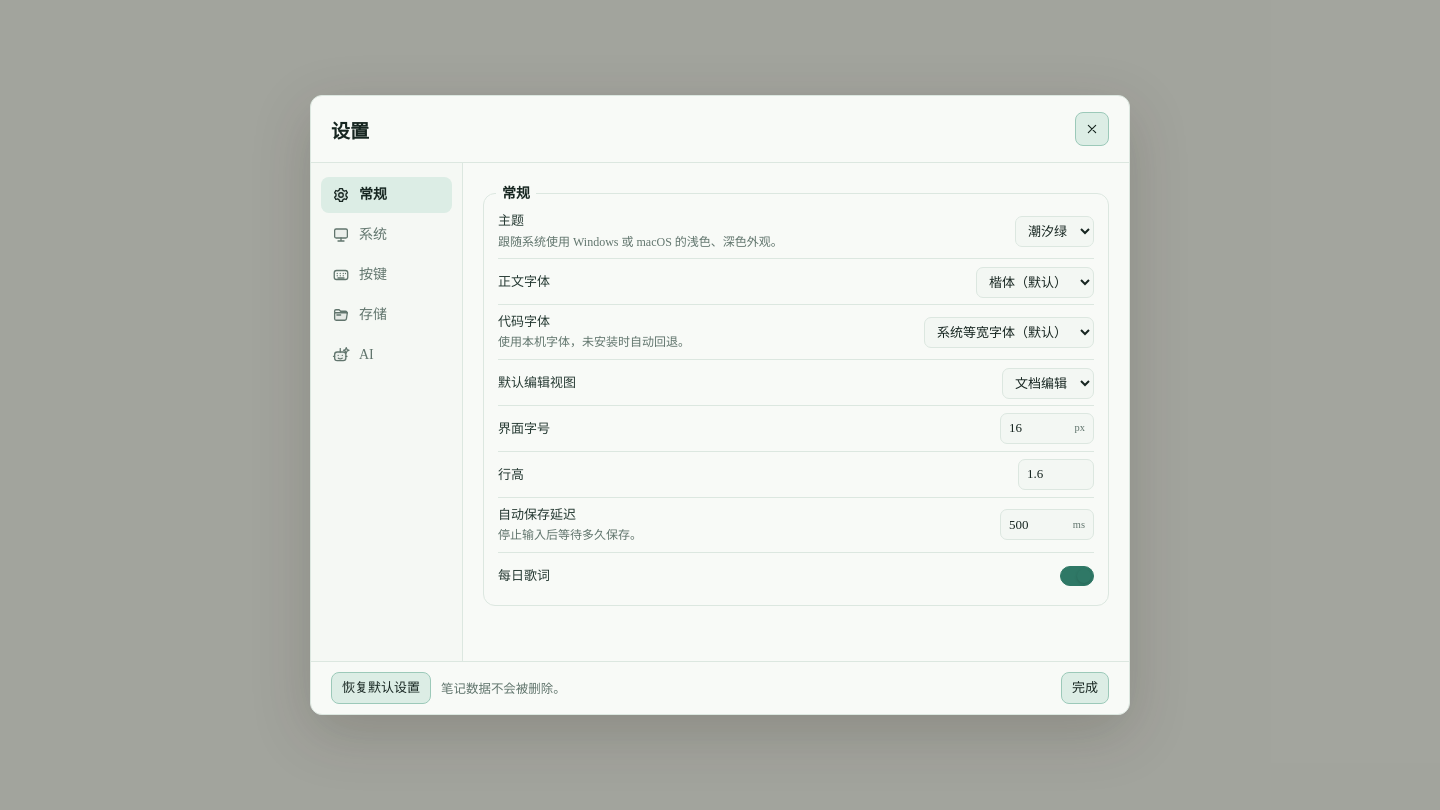
Test case: SettingsView › records a single key after it is released
Click the tab "系统" at (386, 235), box [321,217,452,253]
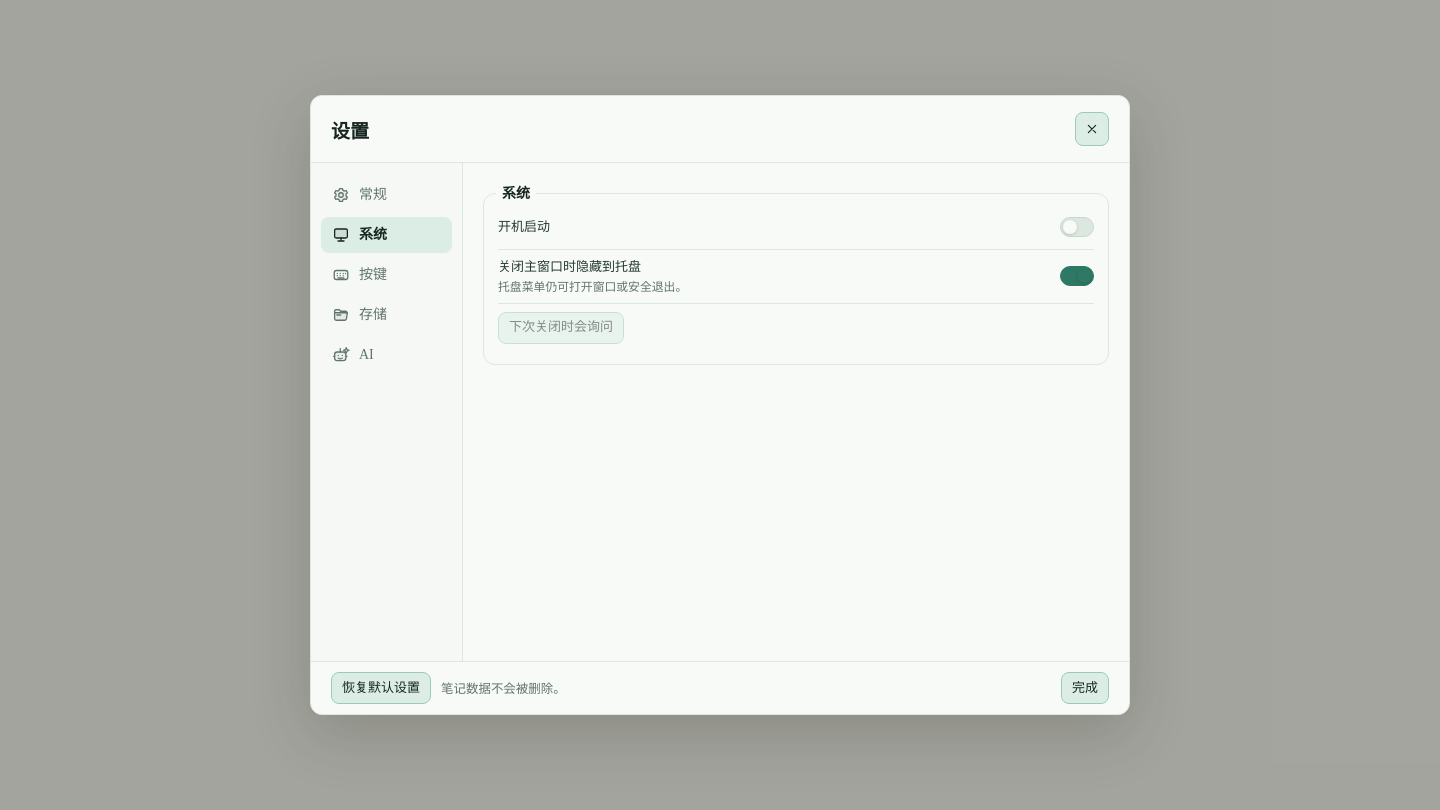
Click the tab "按键" at (386, 275), box [321,257,452,293]
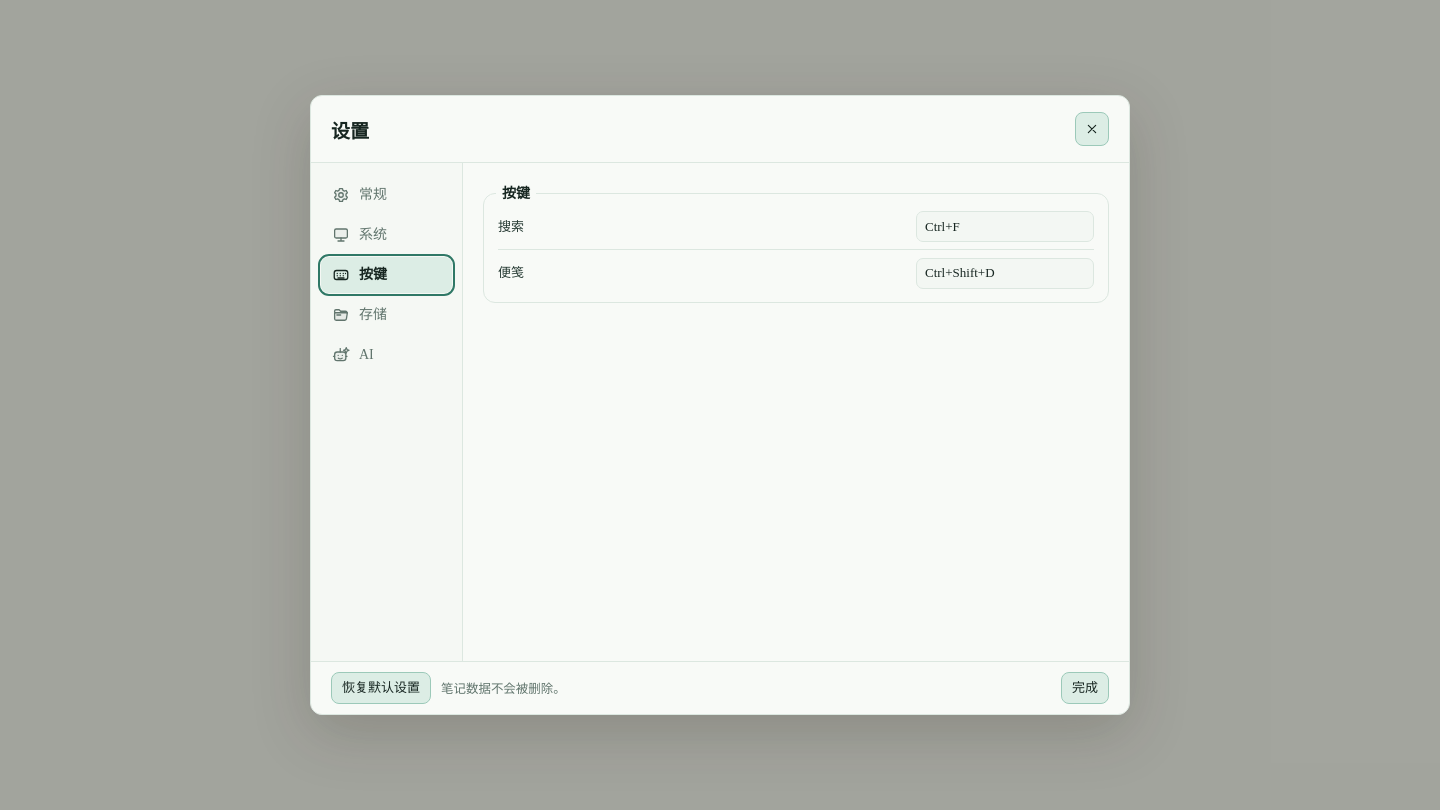
Click the field named "便笺快捷键" at (1005, 273), box [916,258,1094,288]
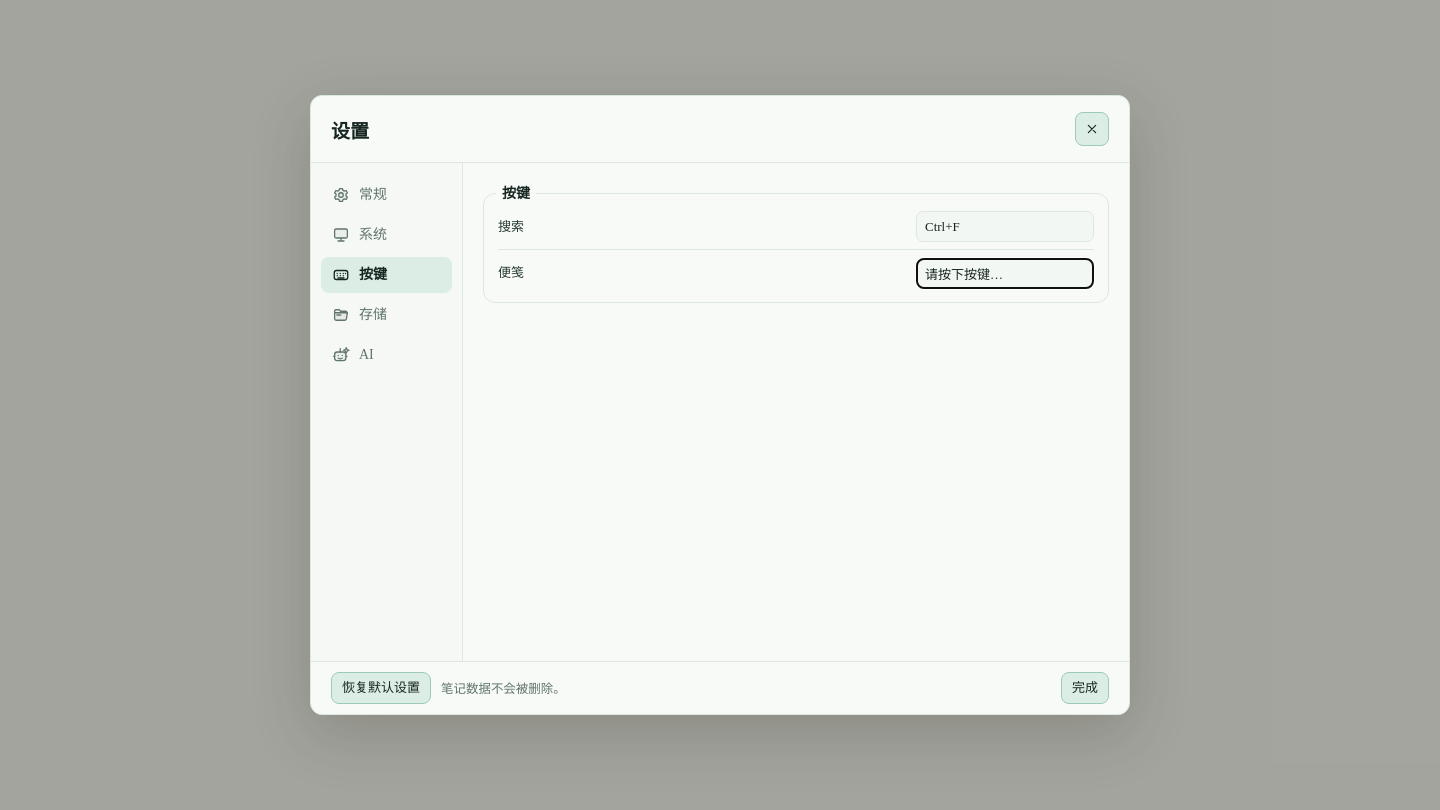
Press F8
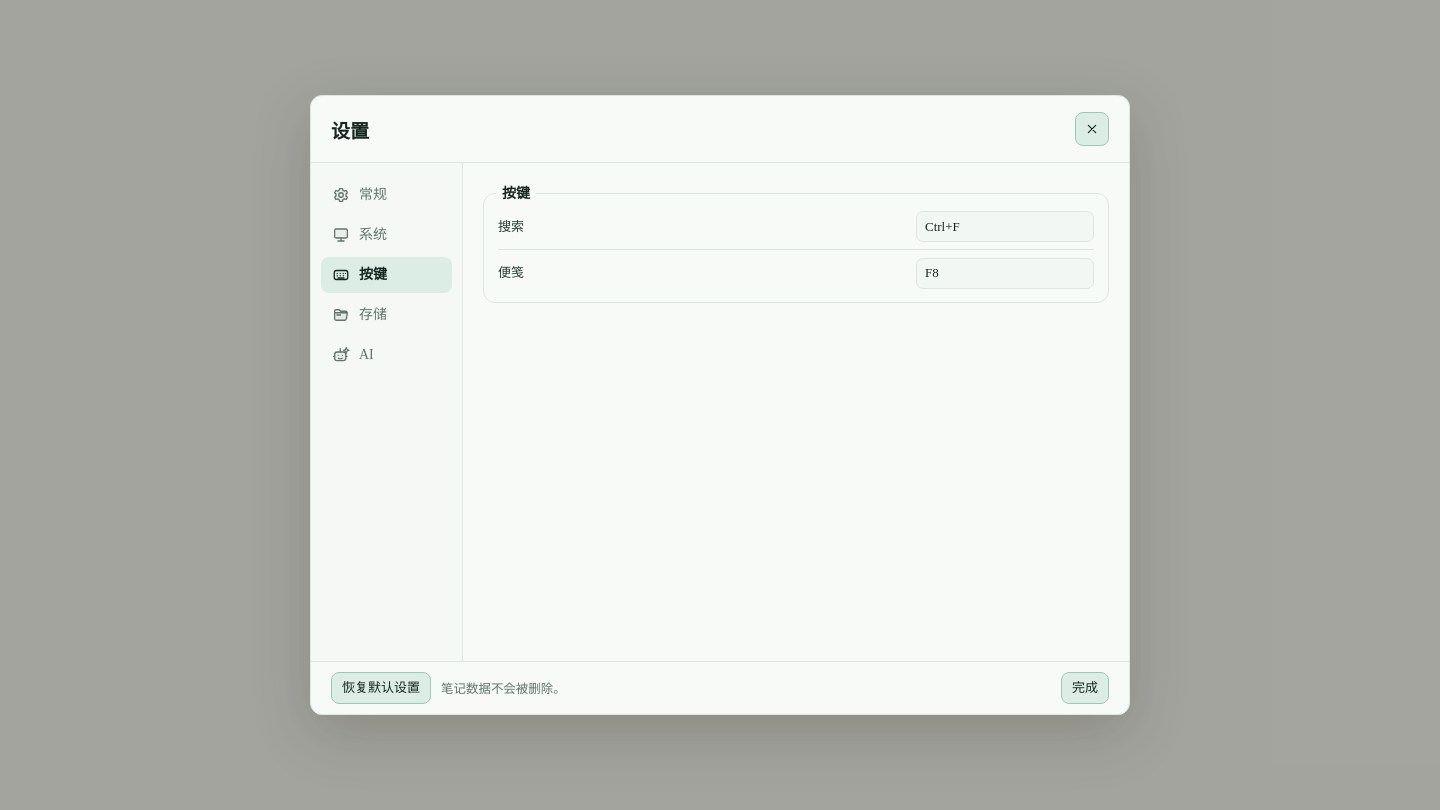
Now the field named "便笺快捷键" holds "F8", box [916,258,1094,288]
